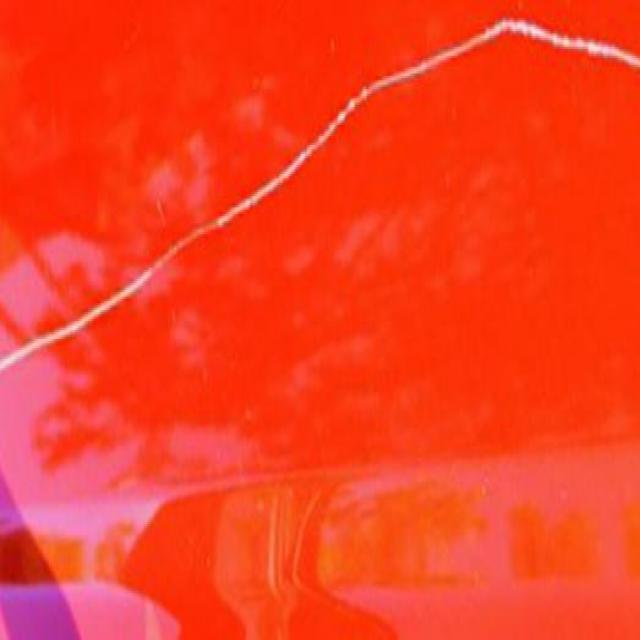scratch: (0, 9, 630, 377)
